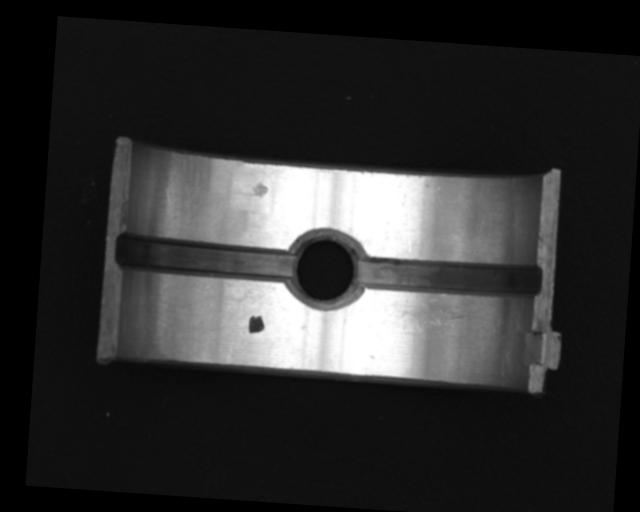blot: (247, 313, 265, 335)
bruise: (251, 181, 268, 199)
gap: (355, 252, 544, 301), (114, 234, 295, 283)
hole: (283, 230, 365, 308)
nick: (398, 193, 414, 253)
scratch: (399, 293, 485, 340)
